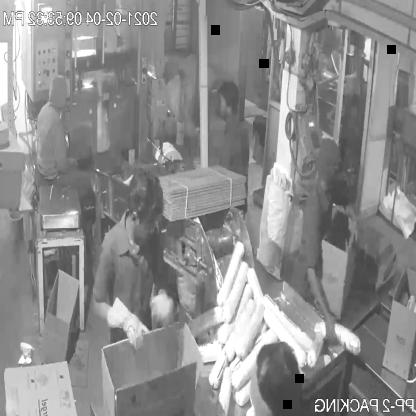glove: (106, 291, 145, 362), (153, 280, 179, 334)
no_glove: (298, 253, 342, 344)
